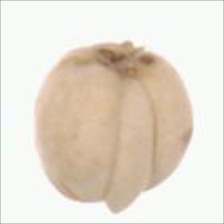L5: (104, 76, 154, 216), (61, 39, 162, 81)
L6: (32, 40, 194, 216)
